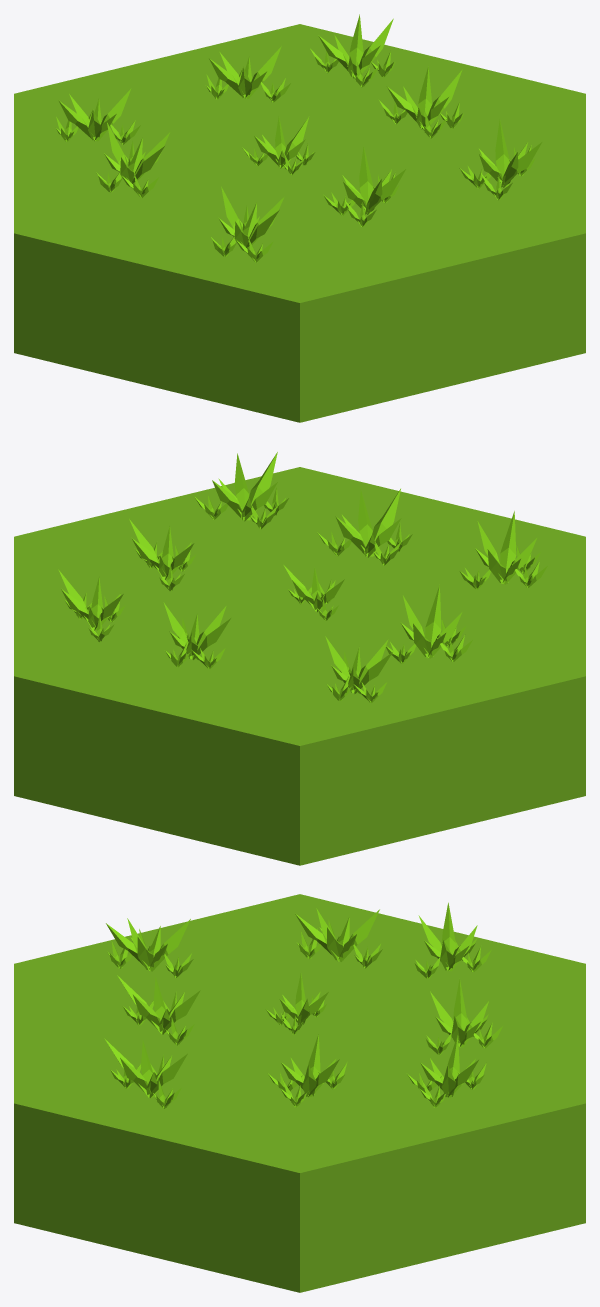
Rendered from Sabana.fbx.
3 renders of one model, top to bottom at view 1: azimuth 30°, elevation 25°; view 2: azimuth 150°, elevation 25°; view 3: azimuth 270°, elevation 25°, orthographic.
Visible parts, largest first — view 1: Sabana; view 2: Sabana; view 3: Sabana.
Boxes of the visible parts, x1=… form: Sabana: x1=14, y1=14, x2=585, y2=422; Sabana: x1=14, y1=452, x2=585, y2=865; Sabana: x1=14, y1=894, x2=585, y2=1292.
Bounding box in the file's own units: 200 × 58.14 × 173.
